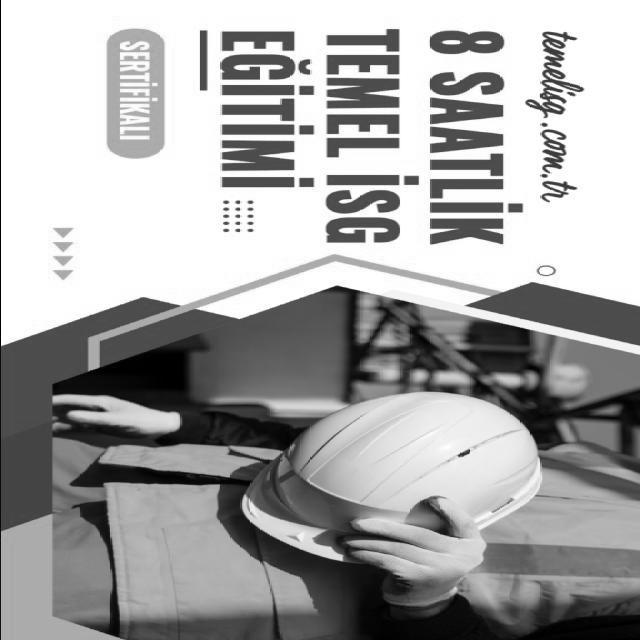safety_helmet: (281, 392, 540, 536)
